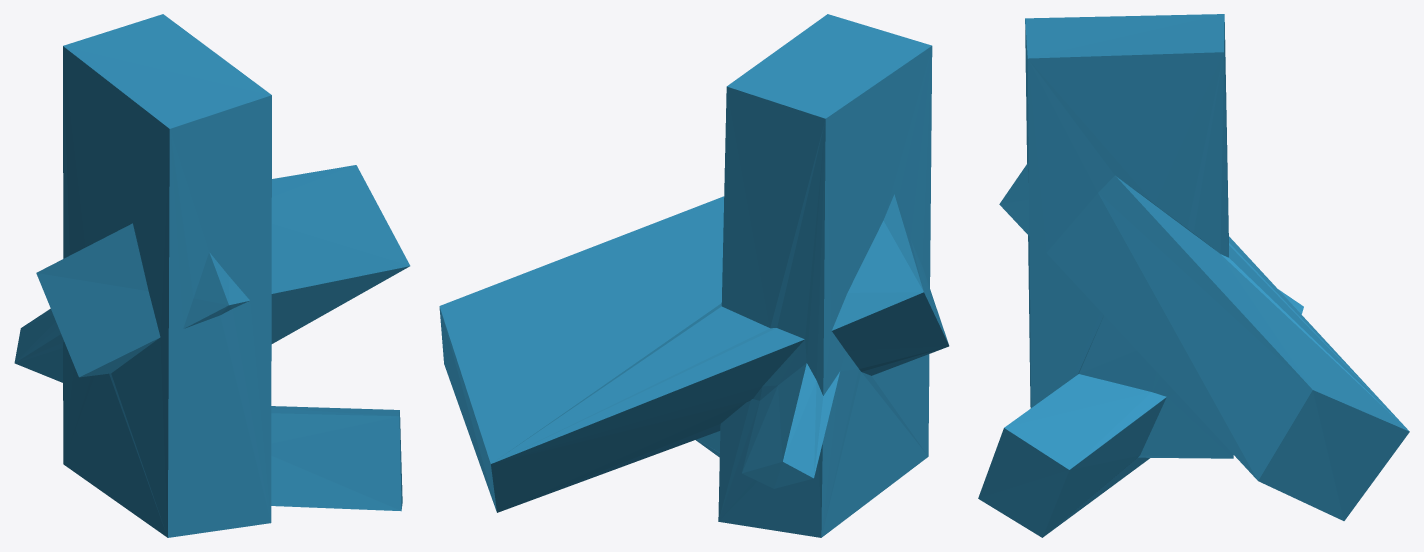
The picture shows the model from 3 angles, left to right: view 1: azimuth 30°, elevation 25°; view 2: azimuth 150°, elevation 25°; view 3: azimuth 270°, elevation 25°; orthographic projection. The views are drawn at different scales.
Parts seen in each view (by area): view 1: 298_Cube.1218; view 2: 298_Cube.1218; view 3: 298_Cube.1218.
Part boxes in pixels (x1,y1,x2,y2): 298_Cube.1218: [14, 14, 410, 537]; 298_Cube.1218: [439, 14, 949, 537]; 298_Cube.1218: [978, 14, 1409, 537].
Size of the model in its own units: 12.58 by 12.67 by 11.78.
